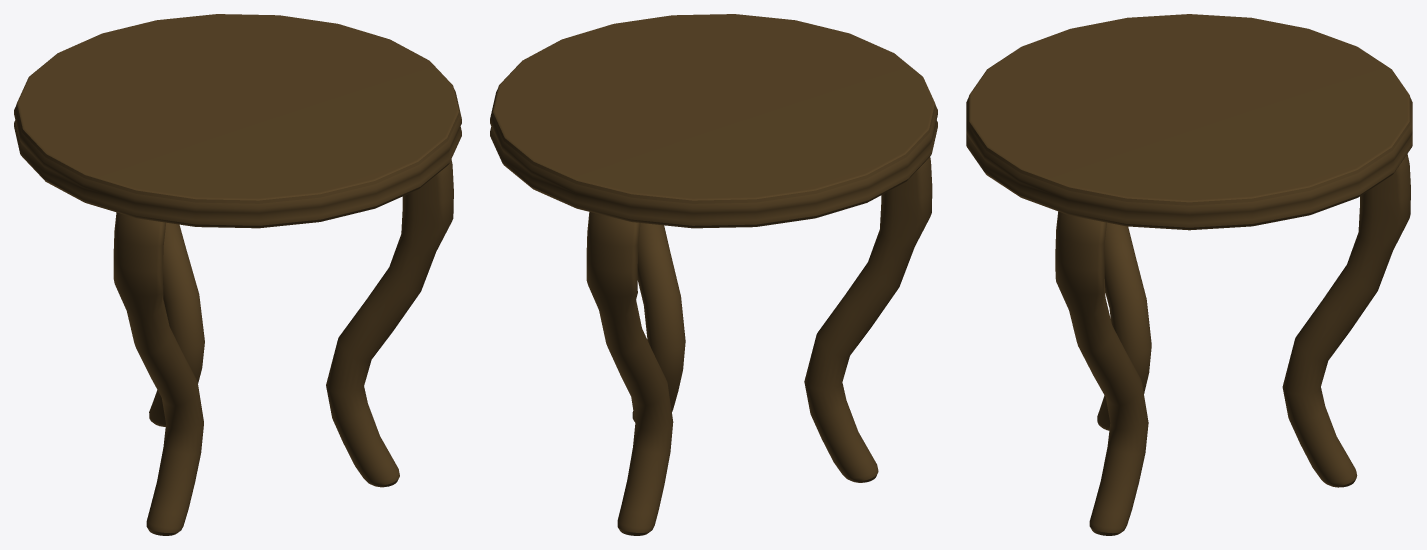
The model's file is SmallRoundTable.fbx.
3 views of the same model, side by side, from view 1: azimuth 30°, elevation 25°; view 2: azimuth 150°, elevation 25°; view 3: azimuth 270°, elevation 25° (orthographic).
Visible parts, largest first — view 1: pasted__polySurface30; view 2: pasted__polySurface30; view 3: pasted__polySurface30.
Boxes of the visible parts, x1,y1,x2,y2 form: pasted__polySurface30: (14,14,461,535); pasted__polySurface30: (490,14,937,535); pasted__polySurface30: (966,14,1412,535).
Bounding box in the file's own units: 12.67 × 11.58 × 12.54.
